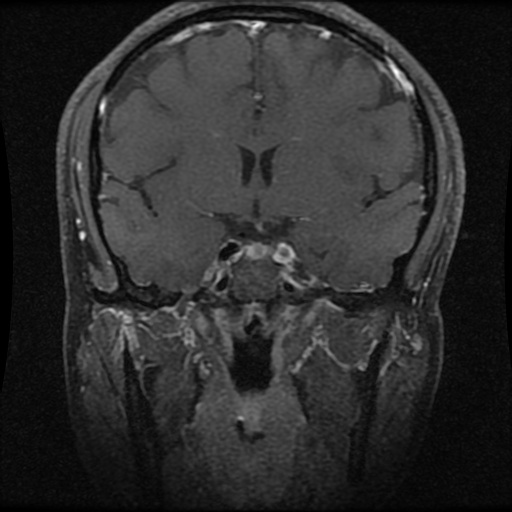pituitary: (241, 244, 279, 259)
